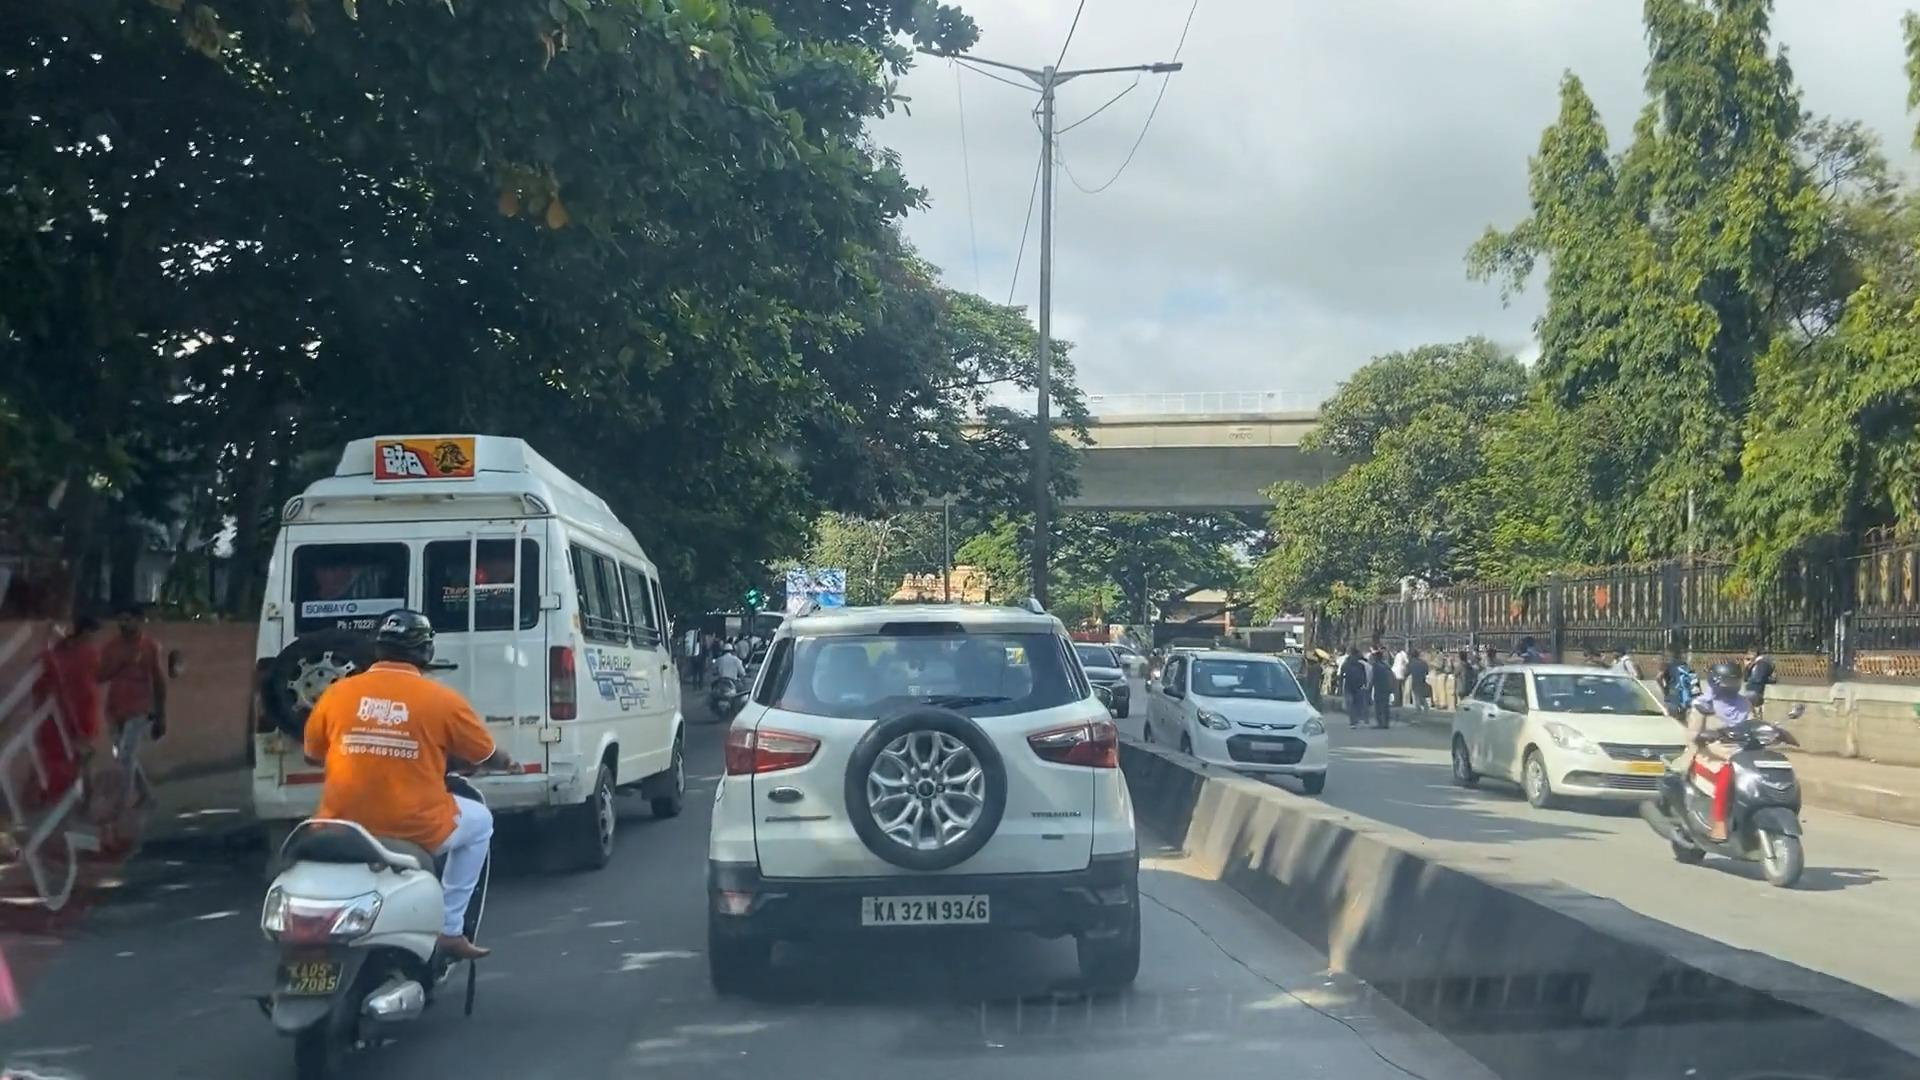LMV: (703, 596, 1155, 1014), (256, 463, 678, 840), (290, 618, 488, 1080)
